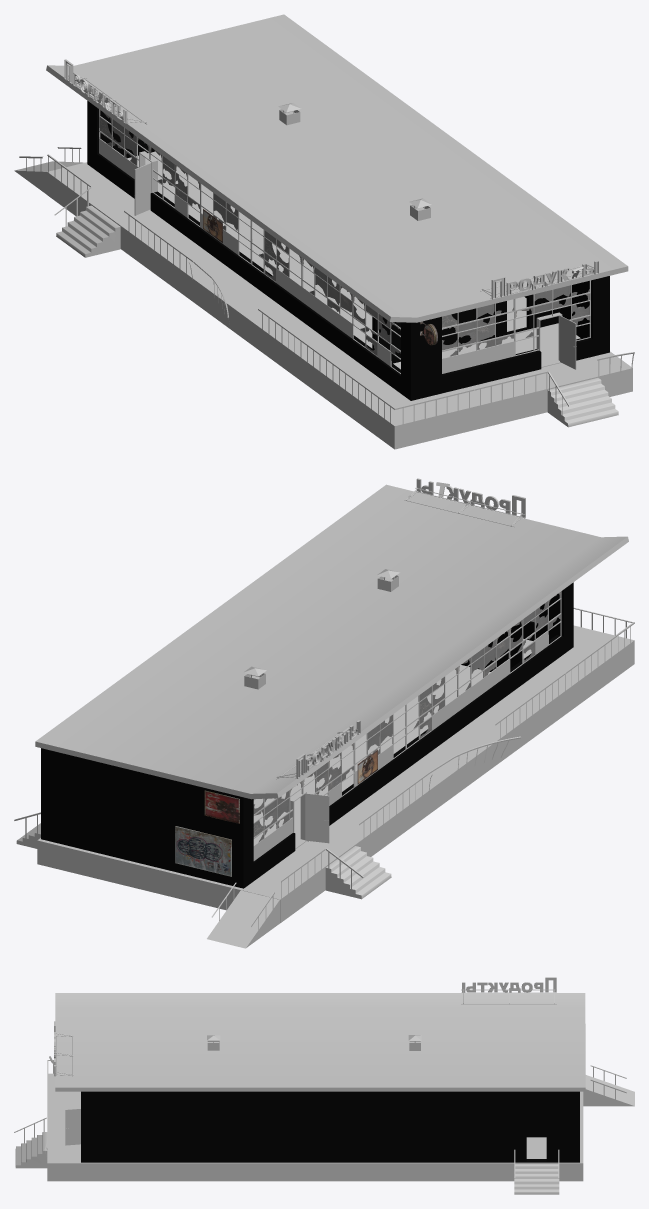
Rendered from Store_01.FBX.
3 renders of one model, top to bottom at view 1: azimuth 30°, elevation 25°; view 2: azimuth 150°, elevation 25°; view 3: azimuth 270°, elevation 25°, orthographic. The views are drawn at different scales.
Parts seen in each view (by area): view 1: Magazin_01, Magazin_Glass, Magazin_Window_01, Railing, Magazin_Window_02, Magazin_01_Doors, Magazin_Text_02, Magazin_Text_01; view 2: Magazin_01, Magazin_Window_01, Magazin_Glass, Railing, Magazin_Signs_02, Magazin_Text_02, Magazin_01_Doors, Magazin_Text_01, Magazin_Signs_03; view 3: Magazin_01, Magazin_Text_01, Magazin_01_Doors, Railing, Magazin_Text_02.
Boxes of the visible parts, x1,y1,x2,y2 form: Magazin_01: (14, 14, 632, 449); Magazin_Glass: (99, 110, 589, 356); Magazin_Window_01: (99, 109, 400, 373); Railing: (19, 147, 634, 425); Magazin_Window_02: (442, 280, 590, 373); Magazin_01_Doors: (134, 162, 576, 369); Magazin_Text_02: (480, 260, 598, 299); Magazin_Text_01: (64, 59, 147, 124); Magazin_01: (14, 484, 634, 948); Magazin_Window_01: (253, 591, 561, 860); Magazin_Glass: (253, 592, 560, 842); Railing: (212, 607, 634, 931); Magazin_Signs_02: (175, 826, 231, 876); Magazin_Text_02: (404, 478, 525, 526); Magazin_01_Doors: (305, 793, 329, 843); Magazin_Text_01: (276, 720, 360, 779); Magazin_Signs_03: (204, 790, 239, 823); Magazin_01: (15, 993, 634, 1194); Magazin_Text_01: (461, 977, 556, 1004); Magazin_01_Doors: (65, 1108, 80, 1145); Railing: (14, 1060, 626, 1157); Magazin_Text_02: (49, 1021, 73, 1076).
Bounding box in the file's own units: 1460 × 3246 × 660.
